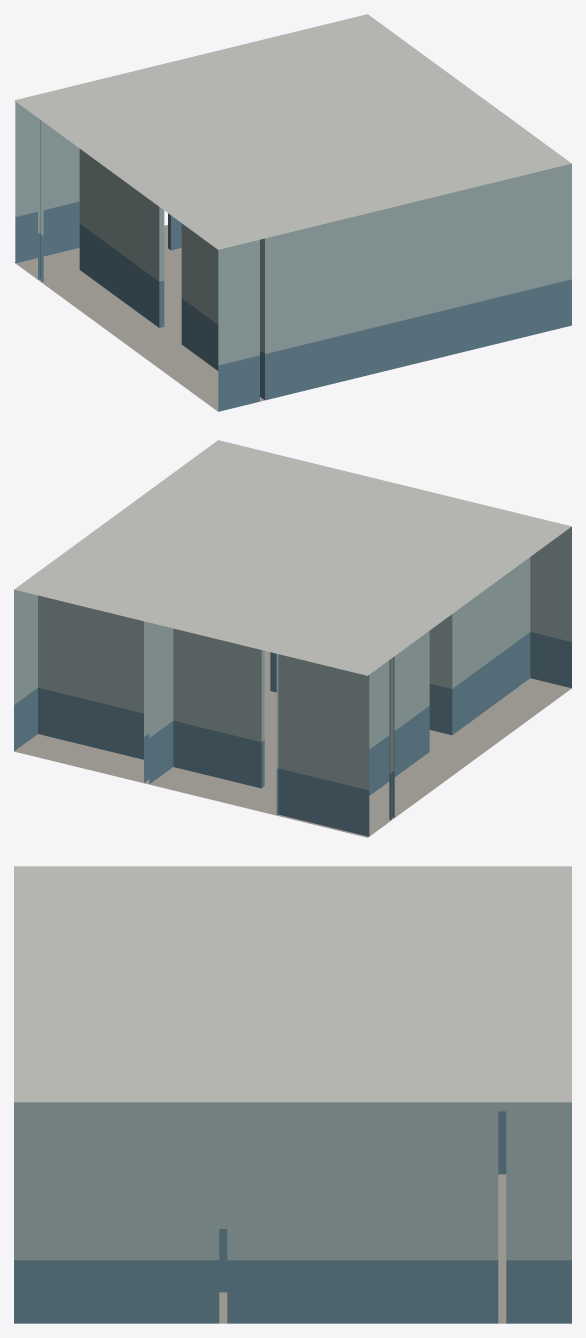
The model's file is chunk_4_4.glb.
3 renders of one model, top to bottom at view 1: azimuth 30°, elevation 25°; view 2: azimuth 150°, elevation 25°; view 3: azimuth 270°, elevation 25°, orthographic. The views are drawn at different scales.
Visible parts, largest first — view 1: chunk_4_4; view 2: chunk_4_4; view 3: chunk_4_4.
Boxes of the visible parts, x1=… form: chunk_4_4: x1=14, y1=14, x2=571, y2=411; chunk_4_4: x1=14, y1=440, x2=571, y2=837; chunk_4_4: x1=14, y1=866, x2=571, y2=1323.
Bounding box in the file's own units: 9.6 × 4.2 × 9.6.
